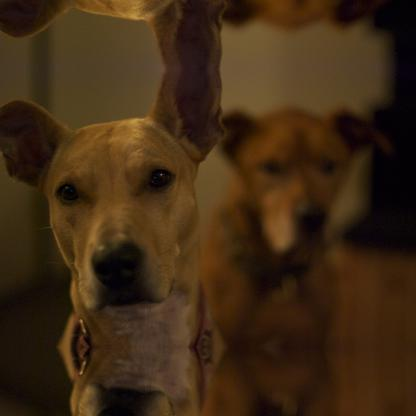Dog: (0, 68, 223, 347), (195, 105, 414, 345), (0, 0, 223, 69), (0, 346, 223, 415), (195, 347, 415, 415)
